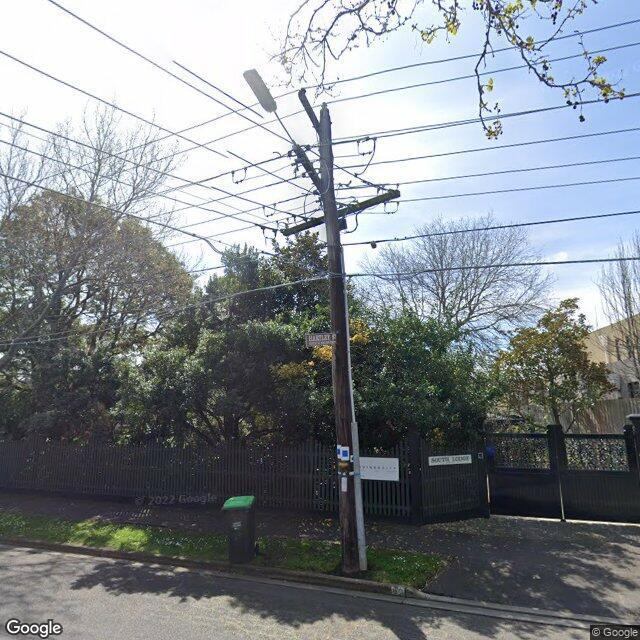crossarm: (280, 189, 403, 239), (287, 143, 322, 195), (297, 92, 318, 136)
streetlight: (242, 68, 327, 198)
timber-pole: (321, 107, 362, 571)
